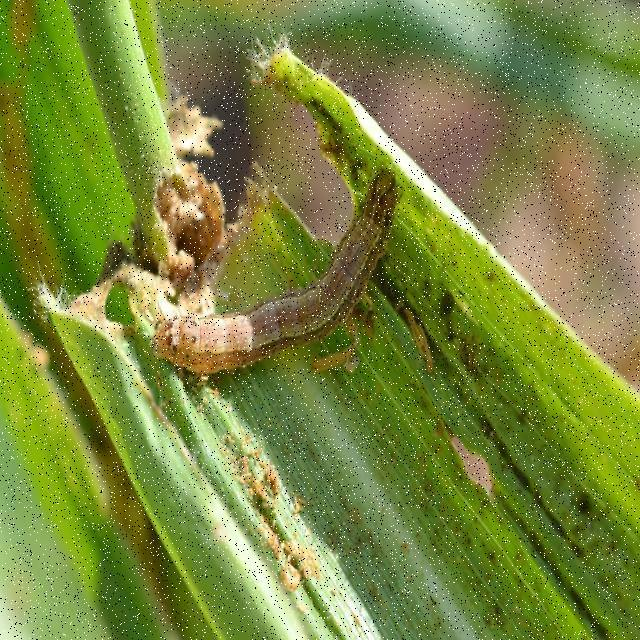army worm: (123, 149, 435, 400)
